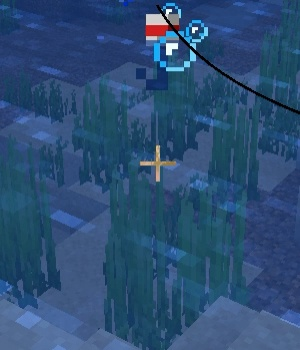up: (133, 10, 185, 93)
